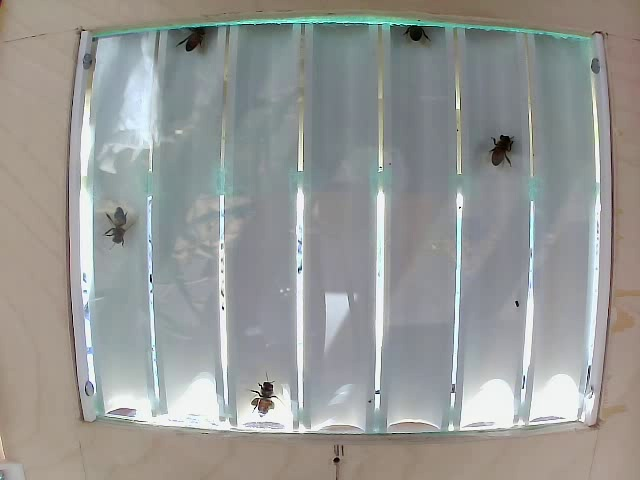bee: (249, 373, 299, 425), (103, 193, 146, 246), (481, 131, 519, 175), (176, 22, 215, 59), (399, 21, 437, 49)
